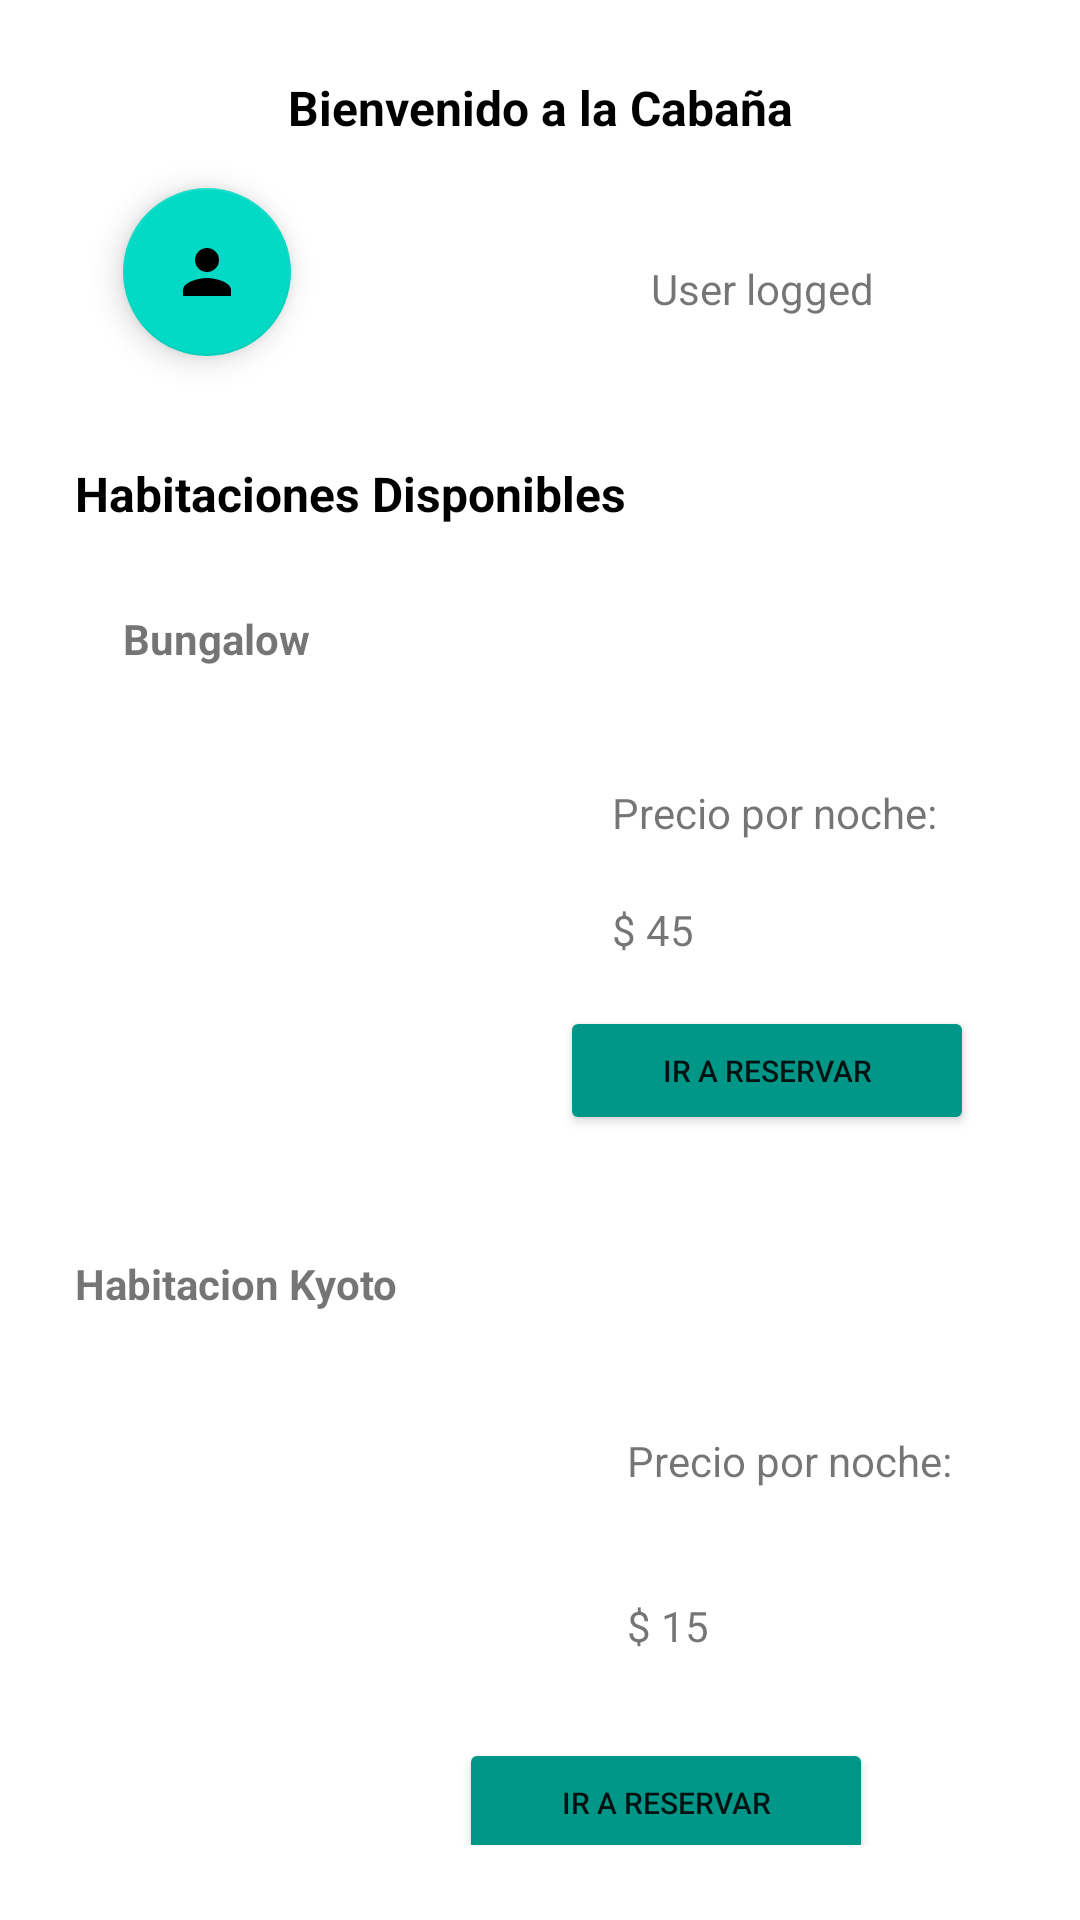

Icon click points for this 1080w x 1920h phone screenshot, format (x=x, y=y):
person: (x=207, y=272)
